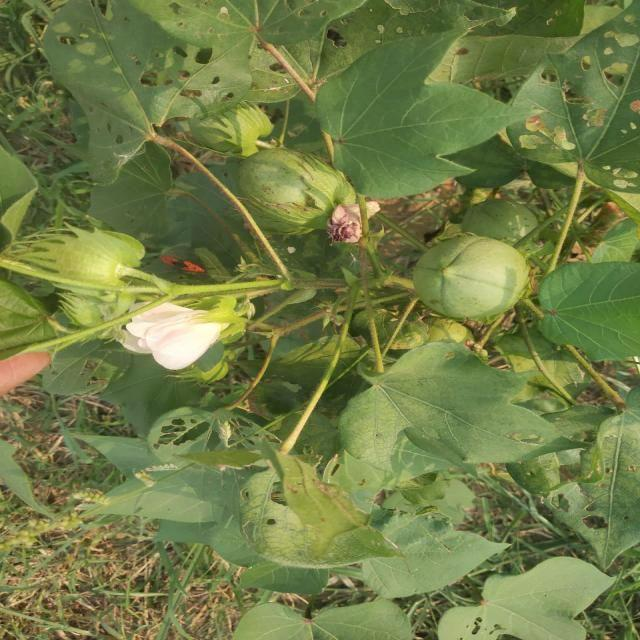Cotton Blossom: (119, 299, 251, 373)
Cotton Bud: (22, 224, 152, 286)
Early Boll: (396, 237, 535, 326), (221, 144, 349, 232), (174, 105, 279, 159)
